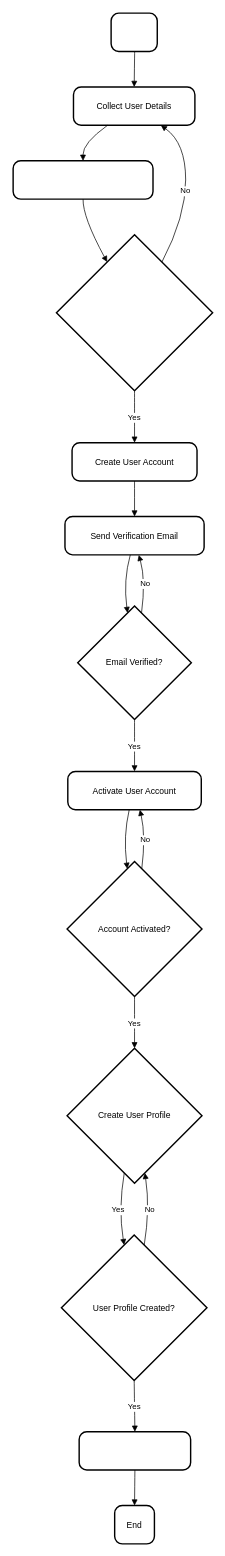
Image size: 225x1556. Some labels were removed from this diagram. The shapes that lost their labels are listed below. From the top down, each one's box as (x1, y1, x2, y2) in pixels, then its label:
(110, 12, 158, 52): Start
(12, 160, 153, 200): Verify User Information
(55, 234, 213, 391): User Information Valid?
(78, 1431, 191, 1470): Sign Up Complete
